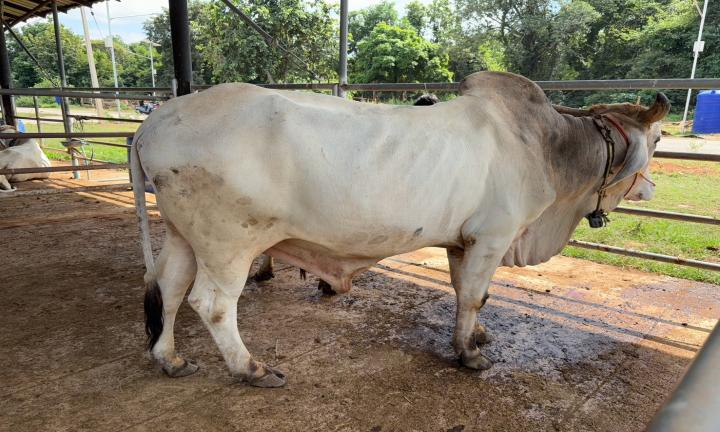Brahman: (132, 71, 669, 387)
